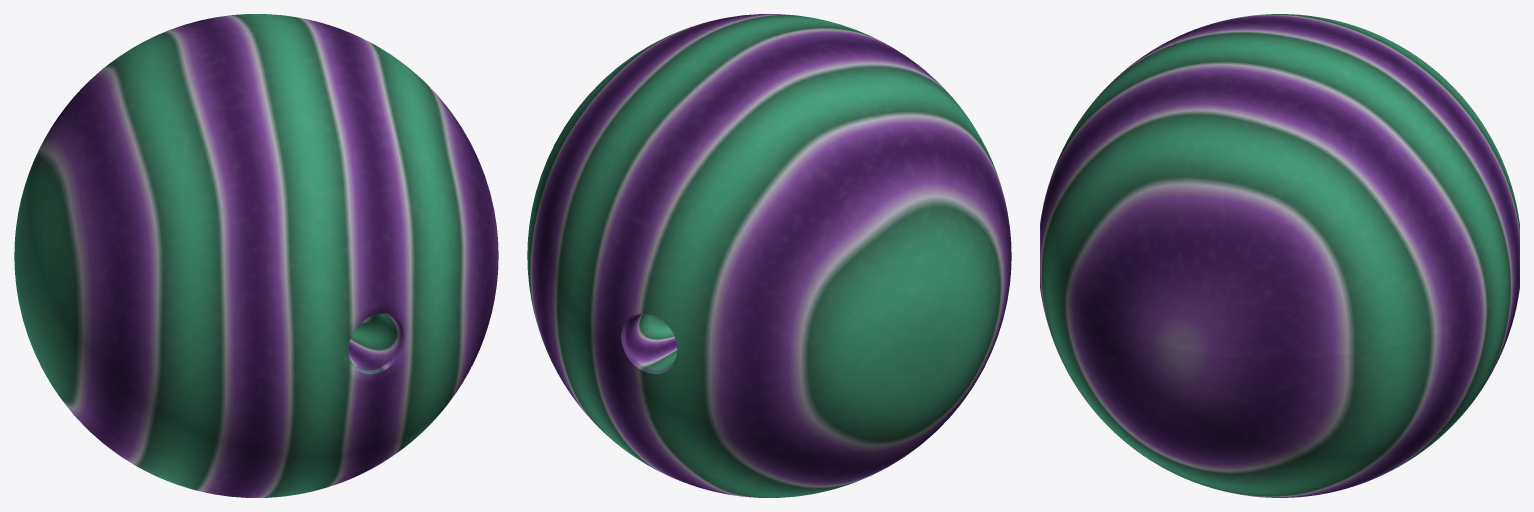
Rendered from fluorite.glb.
The picture shows the model from 3 angles, left to right: view 1: azimuth 30°, elevation 25°; view 2: azimuth 150°, elevation 25°; view 3: azimuth 270°, elevation 25°; orthographic projection.
Visible parts, largest first — view 1: fluorite.001; view 2: fluorite.001; view 3: fluorite.001.
Part boxes in pixels (x1,y1,x2,y2): fluorite.001: [14, 14, 498, 497]; fluorite.001: [527, 14, 1011, 497]; fluorite.001: [1040, 14, 1519, 497].
Size of the model in its own units: 0.008 by 0.008 by 0.00793.
2 materials, 1 textured.
